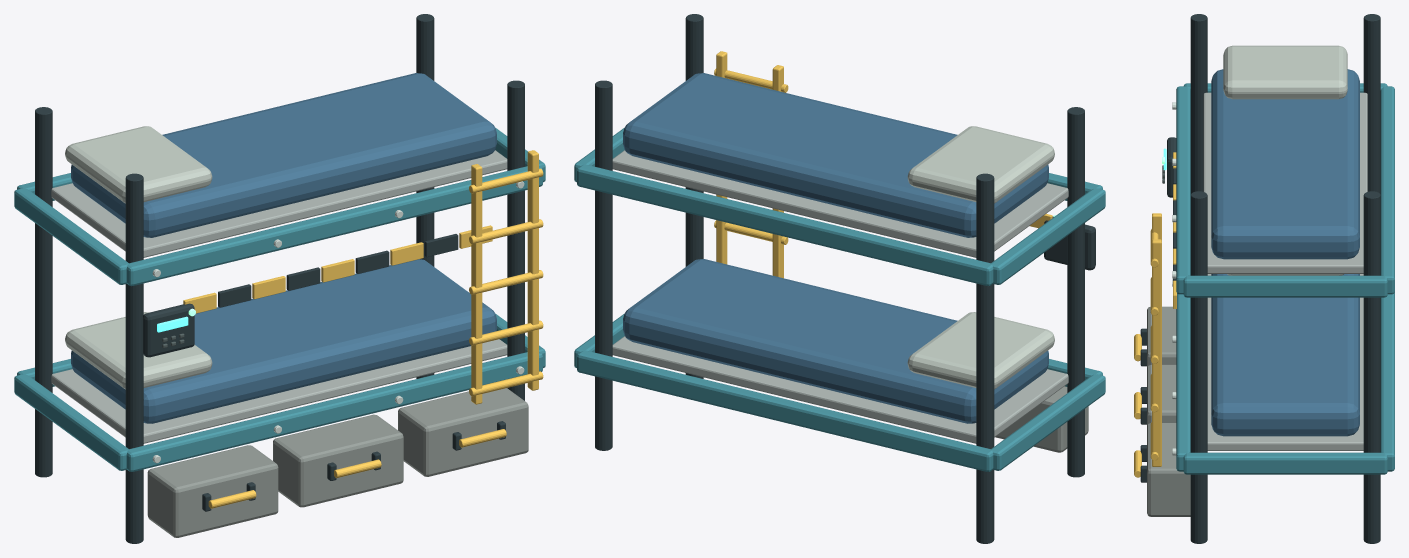
Rendered from Lit superposé modulaire.glb.
3 renders of one model, left to right at view 1: azimuth 30°, elevation 25°; view 2: azimuth 150°, elevation 25°; view 3: azimuth 270°, elevation 25°, orthographic. The views are drawn at different scales.
Visible parts, largest first — view 1: BUNK_Upper_Mattress_Faded_Blue, BUNK_Lower_Mattress_Faded_Blue, BUNK_Lower_Long_Front_Rail, BUNK_Upper_Long_Front_Rail, BUNK_Underbed_Drawer_0_Body, BUNK_Upper_Under_Slat_Panel, BUNK_Lower_Under_Slat_Panel, BUNK_Underbed_Drawer_1_Body, BUNK_Underbed_Drawer_2_Body, BUNK_Upper_Pillow_Foam_Block, BUNK_Corner_Post_-0.9_-0.4, BUNK_Corner_Post_-0.9_0.4 (+13 smaller); view 2: BUNK_Upper_Mattress_Faded_Blue, BUNK_Lower_Mattress_Faded_Blue, BUNK_Upper_Long_Back_Rail, BUNK_Lower_Long_Back_Rail, BUNK_Lower_Under_Slat_Panel, BUNK_Upper_Under_Slat_Panel, BUNK_Upper_Pillow_Foam_Block, BUNK_Corner_Post_-0.9_0.4, BUNK_Lower_Pillow_Foam_Block, BUNK_Corner_Post_0.9_0.4, BUNK_Corner_Post_-0.9_-0.4, BUNK_Lower_Head_Rail (+6 smaller); view 3: BUNK_Upper_Mattress_Faded_Blue, BUNK_Lower_Mattress_Faded_Blue, BUNK_Upper_Pillow_Foam_Block, BUNK_Corner_Post_0.9_-0.4, BUNK_Corner_Post_0.9_0.4, BUNK_Upper_Under_Slat_Panel, BUNK_Upper_Foot_Rail, BUNK_Lower_Foot_Rail, BUNK_Lower_Under_Slat_Panel, BUNK_Upper_Long_Front_Rail, BUNK_Upper_Long_Back_Rail, BUNK_Underbed_Drawer_2_Body (+8 smaller).
Boxes of the visible parts, x1,y1,x2,y2 form: BUNK_Upper_Mattress_Faded_Blue: [71, 73, 496, 237]; BUNK_Lower_Mattress_Faded_Blue: [71, 259, 496, 423]; BUNK_Lower_Long_Front_Rail: [126, 352, 542, 471]; BUNK_Upper_Long_Front_Rail: [126, 166, 542, 285]; BUNK_Underbed_Drawer_0_Body: [147, 445, 278, 537]; BUNK_Upper_Under_Slat_Panel: [51, 150, 507, 257]; BUNK_Lower_Under_Slat_Panel: [51, 339, 507, 443]; BUNK_Underbed_Drawer_1_Body: [273, 414, 403, 507]; BUNK_Underbed_Drawer_2_Body: [398, 388, 528, 476]; BUNK_Upper_Pillow_Foam_Block: [65, 126, 212, 203]; BUNK_Corner_Post_-0.9_-0.4: [125, 173, 143, 543]; BUNK_Corner_Post_-0.9_0.4: [35, 107, 52, 477]; BUNK_Upper_Mattress_Faded_Blue: [623, 73, 1048, 237]; BUNK_Lower_Mattress_Faded_Blue: [623, 259, 1048, 423]; BUNK_Upper_Long_Back_Rail: [577, 164, 993, 285]; BUNK_Lower_Long_Back_Rail: [577, 350, 993, 471]; BUNK_Lower_Under_Slat_Panel: [612, 336, 1068, 443]; BUNK_Upper_Under_Slat_Panel: [612, 150, 1068, 257]; BUNK_Upper_Pillow_Foam_Block: [907, 126, 1054, 203]; BUNK_Corner_Post_-0.9_0.4: [976, 173, 994, 543]; BUNK_Lower_Pillow_Foam_Block: [907, 312, 1054, 389]; BUNK_Corner_Post_0.9_0.4: [595, 80, 612, 450]; BUNK_Corner_Post_-0.9_-0.4: [1067, 107, 1084, 477]; BUNK_Lower_Head_Rail: [991, 374, 1105, 470]; BUNK_Upper_Mattress_Faded_Blue: [1211, 69, 1359, 259]; BUNK_Lower_Mattress_Faded_Blue: [1211, 274, 1359, 436]; BUNK_Upper_Pillow_Foam_Block: [1223, 45, 1347, 99]; BUNK_Corner_Post_0.9_-0.4: [1190, 191, 1207, 543]; BUNK_Corner_Post_0.9_0.4: [1363, 191, 1380, 543]; BUNK_Upper_Under_Slat_Panel: [1203, 92, 1367, 273]; BUNK_Upper_Foot_Rail: [1183, 275, 1387, 297]; BUNK_Lower_Foot_Rail: [1183, 452, 1387, 474]; BUNK_Lower_Under_Slat_Panel: [1207, 274, 1363, 450]; BUNK_Upper_Long_Front_Rail: [1176, 86, 1190, 294]; BUNK_Upper_Long_Back_Rail: [1380, 86, 1394, 294]; BUNK_Underbed_Drawer_2_Body: [1147, 423, 1190, 516].
Size of the model in its own units: 2.11 by 1.72 by 1.18.
